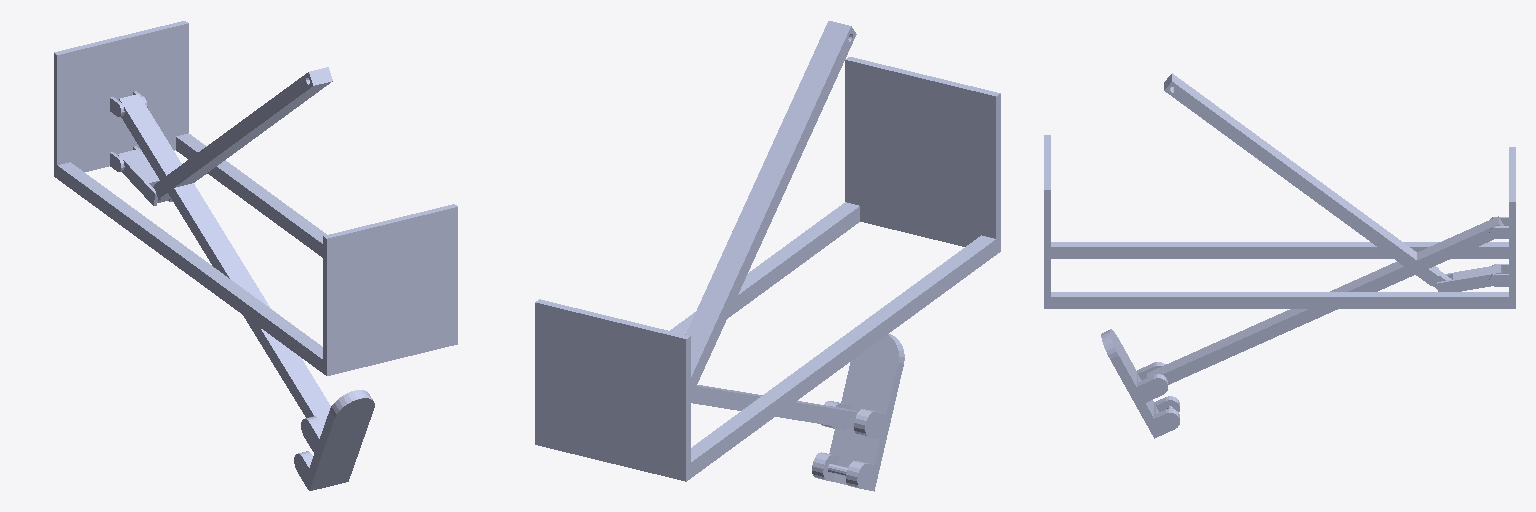
robot.urdf — Foot_assembly_4:
<?xml version="1.0" encoding="utf-8"?>
<!-- This URDF was automatically created by SolidWorks to URDF Exporter! Originally created by Stephen Brawner (brawner@gmail.com) 
     Commit Version: 1.6.0-4-g7f85cfe  Build Version: 1.6.7995.38578
     For more information, please see http://wiki.ros.org/sw_urdf_exporter -->
<robot
  name="Foot_assembly_4">
  <link
    name="base_link">
    <inertial>
      <origin
        xyz="0.0999999999999999 0.35333645778917 0.0589830177287209"
        rpy="0 0 0" />
      <mass
        value="1.33585398163398" />
      <inertia
        ixx="0.125078302425415"
        ixy="-2.64629408804626E-17"
        ixz="2.57182121364114E-18"
        iyy="0.0118057335703589"
        iyz="0.00190803749347008"
        izz="0.127456146362206" />
    </inertial>
    <visual>
      <origin
        xyz="0 0 0"
        rpy="0 0 0" />
      <geometry>
        <mesh
          filename="package://Foot_assembly_4/meshes/base_link.STL" />
      </geometry>
      <material
        name="">
        <color
          rgba="0.792156862745098 0.819607843137255 0.933333333333333 1" />
      </material>
    </visual>
    <collision>
      <origin
        xyz="0 0 0"
        rpy="0 0 0" />
      <geometry>
        <mesh
          filename="package://Foot_assembly_4/meshes/base_link.STL" />
      </geometry>
    </collision>
  </link>
  <link
    name="link_1">
    <inertial>
      <origin
        xyz="2.77555756156289E-17 -0.289778070874283 0.0121615354491613"
        rpy="0 0 0" />
      <mass
        value="0.355287611019616" />
      <inertia
        ixx="0.0104224028504018"
        ixy="7.80745573083846E-20"
        ixz="4.30017990797635E-22"
        iyy="5.69002511733076E-05"
        iyz="0.000435639970633887"
        izz="0.0104187957408814" />
    </inertial>
    <visual>
      <origin
        xyz="0 0 0"
        rpy="0 0 0" />
      <geometry>
        <mesh
          filename="package://Foot_assembly_4/meshes/link_1.STL" />
      </geometry>
      <material
        name="">
        <color
          rgba="0.792156862745098 0.819607843137255 0.933333333333333 1" />
      </material>
    </visual>
    <collision>
      <origin
        xyz="0 0 0"
        rpy="0 0 0" />
      <geometry>
        <mesh
          filename="package://Foot_assembly_4/meshes/link_1.STL" />
      </geometry>
    </collision>
  </link>
  <joint
    name="base_joint"
    type="revolute">
    <origin
      xyz="0.1 0.69 0.09"
      rpy="0 0 0" />
    <parent
      link="base_link" />
    <child
      link="link_1" />
    <axis
      xyz="1 0 0" />
    <limit
      lower="0.5"
      upper="0.5"
      effort="5"
      velocity="1" />
  </joint>
  <link
    name="feet">
    <inertial>
      <origin
        xyz="2.44140097027667E-10 -0.029131456600985 0.000330178874294318"
        rpy="0 0 0" />
      <mass
        value="0.231623891688802" />
      <inertia
        ixx="0.000588958363265217"
        ixy="-1.31230269130087E-12"
        ixz="1.70558195871697E-12"
        iyy="0.000625081667763553"
        iyz="2.90236917594988E-05"
        izz="0.00012531718285924" />
    </inertial>
    <visual>
      <origin
        xyz="0 0 0"
        rpy="0 0 0" />
      <geometry>
        <mesh
          filename="package://Foot_assembly_4/meshes/feet.STL" />
      </geometry>
      <material
        name="">
        <color
          rgba="0.792156862745098 0.819607843137255 0.933333333333333 1" />
      </material>
    </visual>
    <collision>
      <origin
        xyz="0 0 0"
        rpy="0 0 0" />
      <geometry>
        <mesh
          filename="package://Foot_assembly_4/meshes/feet.STL" />
      </geometry>
    </collision>
  </link>
  <joint
    name="feet_joint"
    type="revolute">
    <origin
      xyz="0 -0.57449 0.024111"
      rpy="0 0 0" />
    <parent
      link="link_1" />
    <child
      link="feet" />
    <axis
      xyz="1 0 0" />
    <limit
      lower="0"
      upper="0"
      effort="0"
      velocity="0" />
  </joint>
  <link
    name="link_2">
    <inertial>
      <origin
        xyz="5.55111512312578E-17 -0.0275244788837927 -0.0225338185351719"
        rpy="0 0 0" />
      <mass
        value="0.0492146018366026" />
      <inertia
        ixx="3.4851935775489E-05"
        ixy="1.9951663822218E-21"
        ixz="2.18626831026042E-22"
        iyy="1.83559272354394E-05"
        iyz="-1.54539178489727E-05"
        izz="2.45806324549737E-05" />
    </inertial>
    <visual>
      <origin
        xyz="0 0 0"
        rpy="0 0 0" />
      <geometry>
        <mesh
          filename="package://Foot_assembly_4/meshes/link_2.STL" />
      </geometry>
      <material
        name="">
        <color
          rgba="0.792156862745098 0.819607843137255 0.933333333333333 1" />
      </material>
    </visual>
    <collision>
      <origin
        xyz="0 0 0"
        rpy="0 0 0" />
      <geometry>
        <mesh
          filename="package://Foot_assembly_4/meshes/link_2.STL" />
      </geometry>
    </collision>
  </link>
  <joint
    name="base_joint_2"
    type="revolute">
    <origin
      xyz="0.1 0.69 0.01"
      rpy="0 0 0" />
    <parent
      link="base_link" />
    <child
      link="link_2" />
    <axis
      xyz="-1 0 0" />
    <limit
      lower="0.5"
      upper="0.5"
      effort="5"
      velocity="1" />
  </joint>
  <link
    name="link_2.1">
    <inertial>
      <origin
        xyz="0 -0.267096059696887 0.0484471963545597"
        rpy="0 0 0" />
      <mass
        value="0.321073009183013" />
      <inertia
        ixx="0.00770262684645029"
        ixy="1.99996483474509E-20"
        ixz="-4.07502804409361E-23"
        iyy="0.00027919758187413"
        iyz="0.00134884167188259"
        izz="0.00747088778231417" />
    </inertial>
    <visual>
      <origin
        xyz="0 0 0"
        rpy="0 0 0" />
      <geometry>
        <mesh
          filename="package://Foot_assembly_4/meshes/link_2.1.STL" />
      </geometry>
      <material
        name="">
        <color
          rgba="0.792156862745098 0.819607843137255 0.933333333333333 1" />
      </material>
    </visual>
    <collision>
      <origin
        xyz="0 0 0"
        rpy="0 0 0" />
      <geometry>
        <mesh
          filename="package://Foot_assembly_4/meshes/link_2.1.STL" />
      </geometry>
    </collision>
  </link>
  <joint
    name="revolving_joint"
    type="revolute">
    <origin
      xyz="0 -0.061901 -0.050678"
      rpy="0 0 0" />
    <parent
      link="link_2" />
    <child
      link="link_2.1" />
    <axis
      xyz="1 0 0" />
    <limit
      lower="0"
      upper="0"
      effort="0"
      velocity="0" />
  </joint>
  <link
    name="feet_2">
    <inertial>
      <origin
        xyz="2.46608844456375E-11 0.237687064520991 0.00812078392955451"
        rpy="0 0 0" />
      <mass
        value="2.29305309536201" />
      <inertia
        ixx="0.167947144422069"
        ixy="1.31057715267956E-11"
        ixz="-1.22767557017004E-12"
        iyy="0.0152243775226424"
        iyz="0.00753155108017476"
        izz="0.16717662117724" />
    </inertial>
    <visual>
      <origin
        xyz="0 0 0"
        rpy="0 0 0" />
      <geometry>
        <mesh
          filename="package://Foot_assembly_4/meshes/feet_2.STL" />
      </geometry>
      <material
        name="">
        <color
          rgba="0.792156862745098 0.819607843137255 0.933333333333333 1" />
      </material>
    </visual>
    <collision>
      <origin
        xyz="0 0 0"
        rpy="0 0 0" />
      <geometry>
        <mesh
          filename="package://Foot_assembly_4/meshes/feet_2.STL" />
      </geometry>
    </collision>
  </link>
  <joint
    name="feet_joint_2"
    type="revolute">
    <origin
      xyz="0 -0.52444 0.095126"
      rpy="0 0 0" />
    <parent
      link="link_2.1" />
    <child
      link="feet_2" />
    <axis
      xyz="1 0 0" />
    <limit
      lower="0"
      upper="0"
      effort="0"
      velocity="0" />
  </joint>
</robot>

--- What the picture shows (computed from the rendered views, not written in the file) ---
Views: 3 orthographic renders of the robot side by side, from view 1: azimuth 30°, elevation 25°; view 2: azimuth 150°, elevation 25°; view 3: azimuth 270°, elevation 25°.
Model Foot_assembly_4 with 6 links and 5 joints (5 revolute), rooted at base_link, posed joints at zero except 2 at the middle of their limits (base_joint = 0.5, base_joint_2 = 0.5).
Links seen in each view (by area): view 1: base_link, link_1, feet, link_2.1, link_2; view 2: base_link, link_2.1, feet, link_1; view 3: base_link, link_2.1, link_1, feet, link_2.
Link boxes in pixels (x1,y1,x2,y2): base_link: (54,21,457,375); link_1: (119,94,330,426); feet: (294,390,374,490); link_2.1: (153,67,332,202); link_2: (118,149,172,205); base_link: (535,57,1000,481); link_2.1: (686,21,856,393); feet: (812,334,904,491); link_1: (691,385,857,428); base_link: (1044,135,1515,308); link_2.1: (1164,73,1451,289); link_1: (1147,216,1503,384); feet: (1101,329,1179,438); link_2: (1437,265,1502,291).
Size in the robot's own frame: 0.2 by 0.72 by 0.5957 metres.
Meshes: 6 distinct files referenced, 5 mesh visuals loaded (5 binary STL); not drawn: 1 (file found but could not be loaded).
